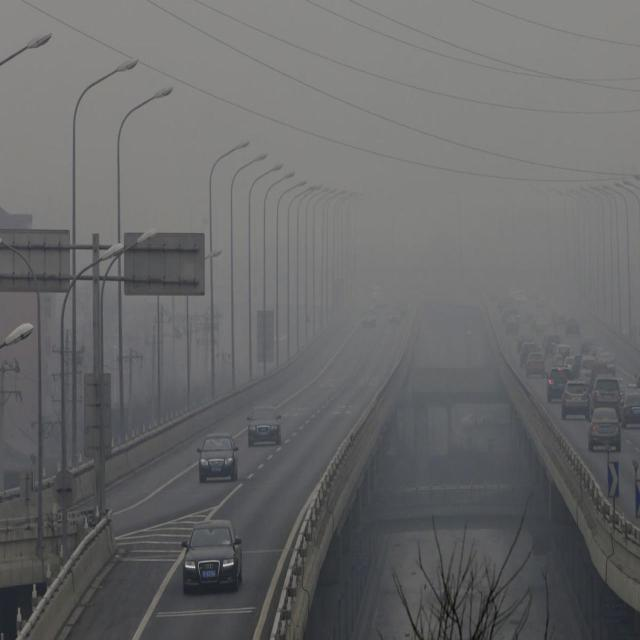Car: (181, 520, 242, 590), (196, 431, 238, 480), (588, 408, 624, 452), (245, 404, 282, 446), (561, 378, 589, 420), (591, 376, 624, 408), (546, 367, 572, 402), (526, 349, 548, 376)
